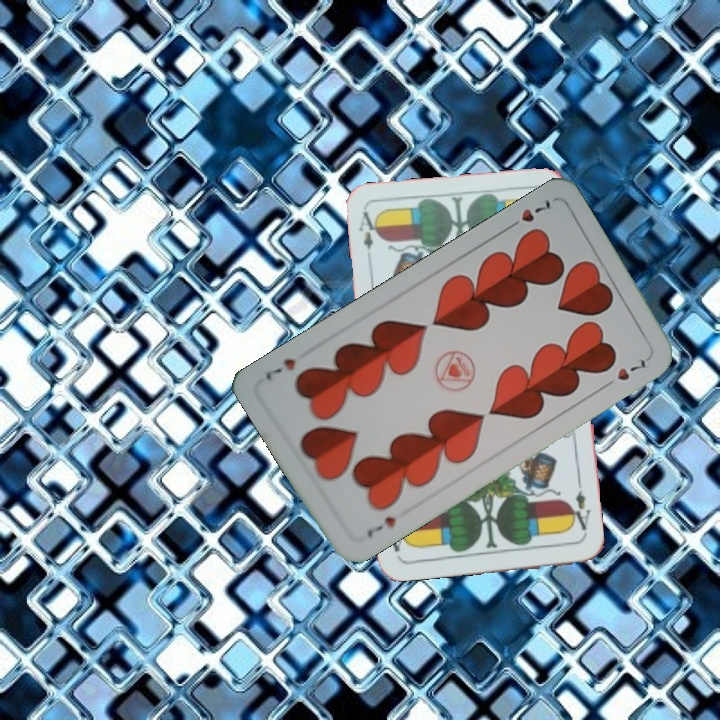EA: (566, 479, 594, 538), (355, 207, 382, 253)
H7: (502, 195, 554, 233), (362, 512, 399, 540)
